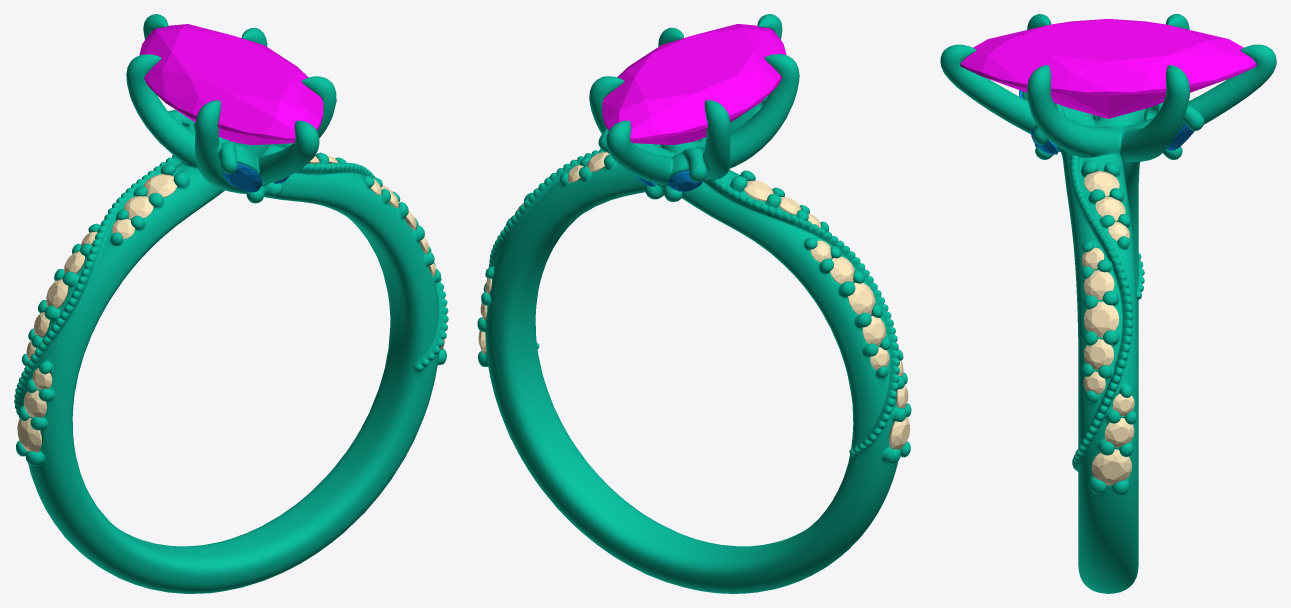
Rendered from BE1D4390_MQ_200ct_RENDER.glb.
3 renders of one model, left to right at view 1: azimuth 30°, elevation 25°; view 2: azimuth 150°, elevation 25°; view 3: azimuth 270°, elevation 25°, orthographic.
Parts seen in each view (by area): view 1: Metal 01, CS_Diamond_Marquise, Diamond_Marquise_Gem_HD.001, Diamond_Round_Gem_SH.010, Diamond_Round_Gem_SH.007; view 2: Metal 01, CS_Diamond_Marquise, Diamond_Round_Gem_SH.003; view 3: Metal 01, CS_Diamond_Marquise, Diamond_Round_Gem_SH.021, Diamond_Round_Gem_SH.014, Diamond_Round_Gem_SH.015, Diamond_Round_Gem_SH.013, Diamond_Round_Gem_SH.020, Diamond_Round_Gem_SH.018, Diamond_Round_Gem_SH.019.
Boxes of the visible parts, box(x1,y1,x2,y2) form: Metal 01: box(14, 14, 448, 593); CS_Diamond_Marquise: box(139, 24, 323, 145); Diamond_Marquise_Gem_HD.001: box(223, 163, 261, 192); Diamond_Round_Gem_SH.010: box(17, 417, 41, 452); Diamond_Round_Gem_SH.007: box(143, 174, 177, 197); Metal 01: box(477, 14, 911, 593); CS_Diamond_Marquise: box(602, 24, 786, 144); Diamond_Round_Gem_SH.003: box(848, 282, 875, 314); Metal 01: box(940, 14, 1276, 593); CS_Diamond_Marquise: box(960, 19, 1256, 118); Diamond_Round_Gem_SH.021: box(1091, 449, 1131, 485); Diamond_Round_Gem_SH.014: box(1083, 301, 1119, 337); Diamond_Round_Gem_SH.015: box(1084, 339, 1114, 369); Diamond_Round_Gem_SH.013: box(1084, 270, 1114, 299); Diamond_Round_Gem_SH.020: box(1104, 418, 1134, 447); Diamond_Round_Gem_SH.018: box(1084, 171, 1119, 196); Diamond_Round_Gem_SH.019: box(1095, 196, 1125, 220).
Size of the model in its own units: 20.84 by 24.54 by 14.08.
